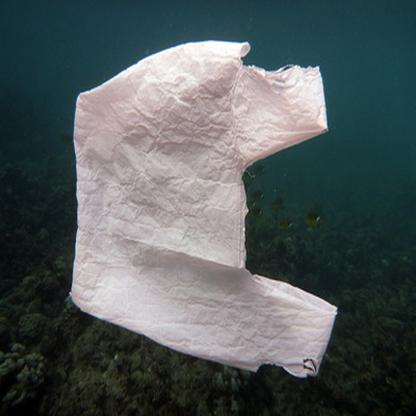plastic bag: (70, 38, 342, 378)
